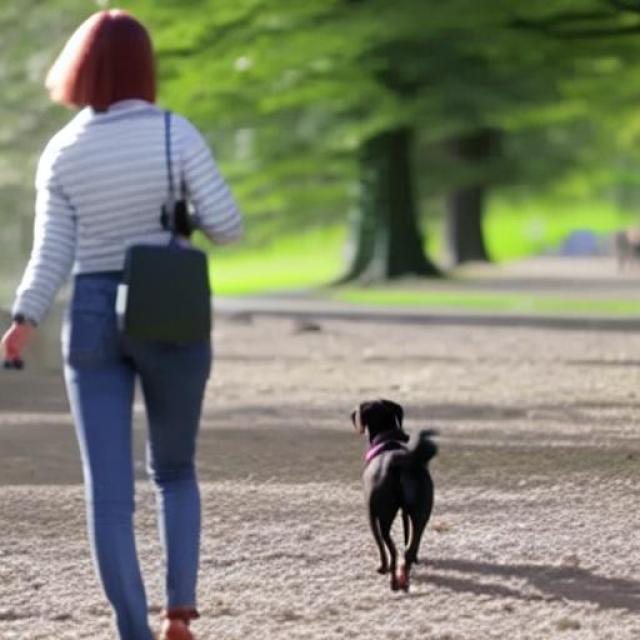Unleashed_Dog: (71, 271, 440, 595)
